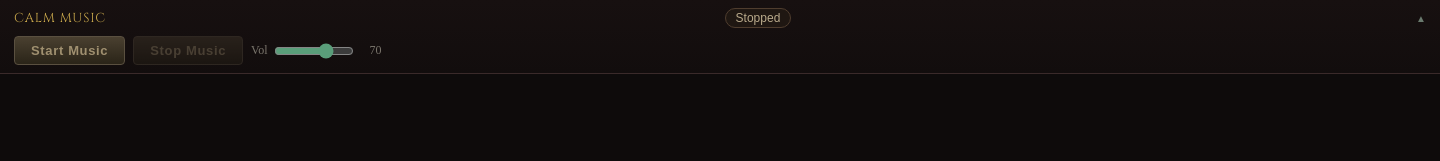
Test: MusicPlayer › resumes AudioContext and schedules phrase 1 on Start (AC-002)
Click the button "Start Music". click: click(70, 50)
box: [14,36,125,65]
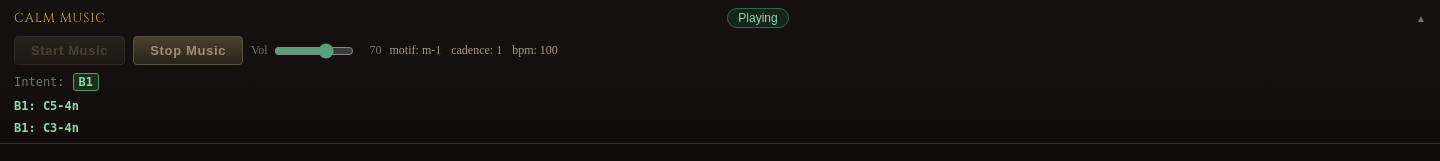
Expected: the text "Playing" is shown, [727,8,789,28]
